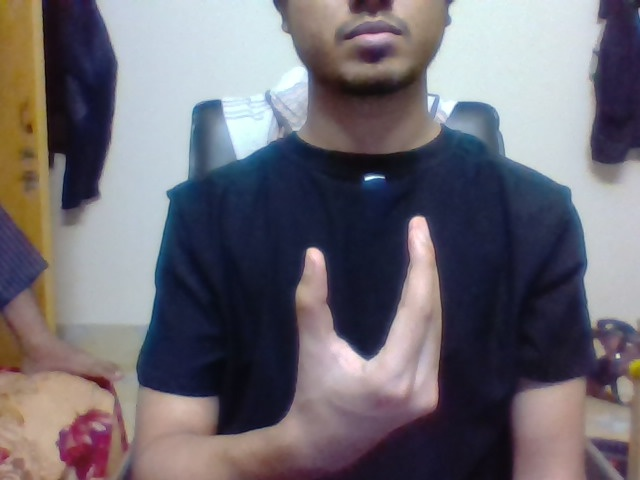U: (284, 206, 453, 380)
